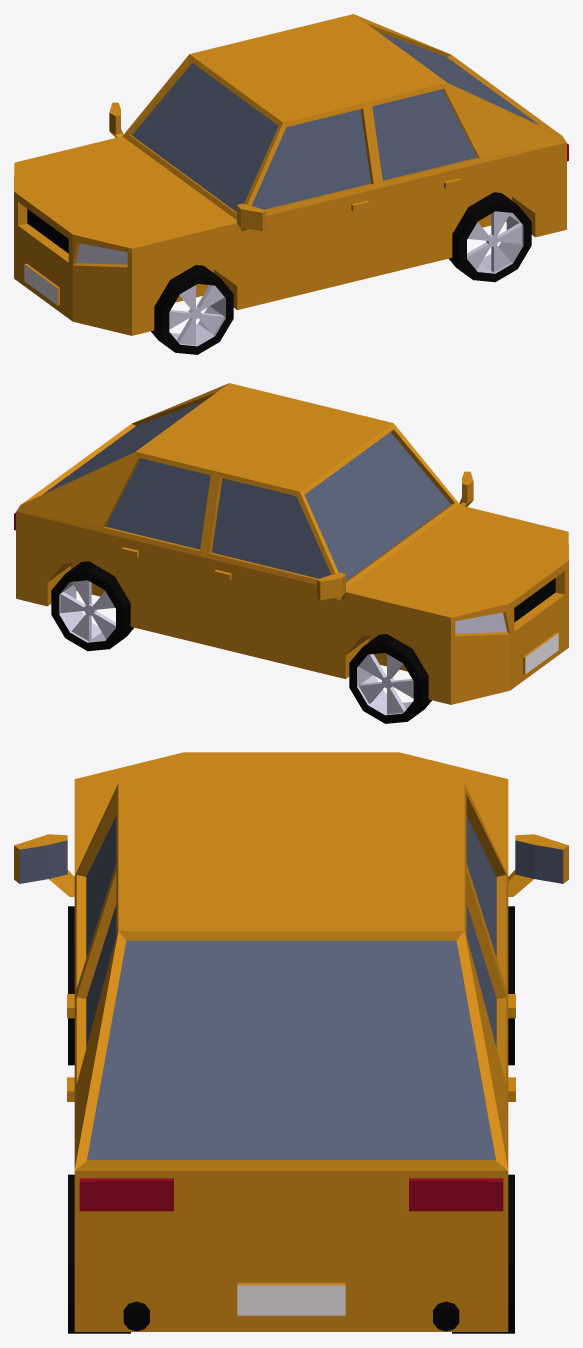
The model's file is hatchback.glb.
3 views of the same model, one above another, from view 1: azimuth 30°, elevation 25°; view 2: azimuth 150°, elevation 25°; view 3: azimuth 270°, elevation 25° (orthographic). The views are drawn at different scales.
Visible parts, largest first — view 1: chassis, blwheel, flwheel; view 2: chassis, brwheel, frwheel; view 3: chassis, brwheel, blwheel, flwheel, frwheel.
Boxes of the visible parts, x1,y1,x2,y2 form: chassis: (14, 14, 568, 335); blwheel: (449, 192, 531, 282); flwheel: (151, 265, 233, 354); chassis: (14, 383, 568, 704); brwheel: (51, 561, 133, 651); frwheel: (349, 634, 431, 723); chassis: (14, 752, 568, 1331); brwheel: (452, 1174, 514, 1333); blwheel: (68, 1174, 130, 1333); flwheel: (68, 906, 74, 1065); frwheel: (508, 906, 514, 1065).
Size of the model in its own units: 5.11 by 2.04 by 2.81.
